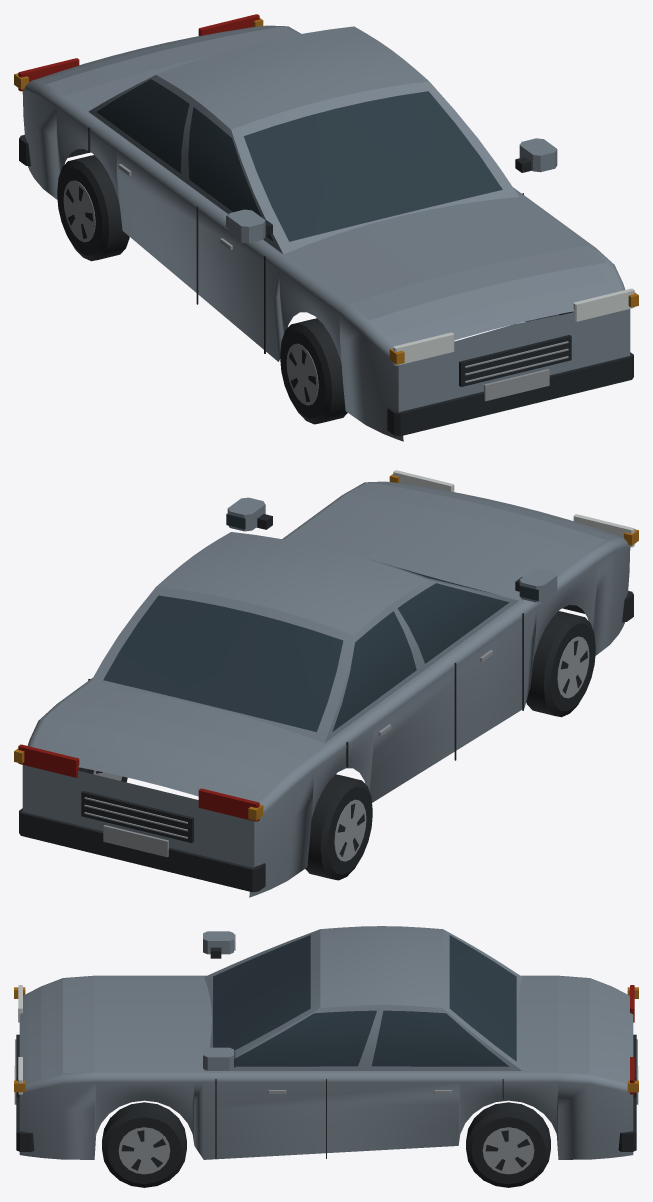
File: sedan.glb
3 renders of one model, top to bottom at view 1: azimuth 30°, elevation 25°; view 2: azimuth 150°, elevation 25°; view 3: azimuth 270°, elevation 25°, orthographic. The views are drawn at different scales.
Parts seen in each view (by area): view 1: paint-body, glass-body, rubber-body, rubber-wheel-front-left (×2), alloy-wheel-front-left (×2), headlamp-body, alloy-body, taillamp-body, indicator-body; view 2: paint-body, glass-body, rubber-body, rubber-wheel-front-left (×2), alloy-wheel-front-left (×2), taillamp-body, alloy-body, headlamp-body, indicator-body; view 3: paint-body, glass-body, rubber-wheel-front-left (×2), alloy-wheel-front-left (×2), rubber-body, indicator-body, alloy-body.
Part boxes in pixels (left/top/right/bottom): paint-body: left=22, top=25, right=630, bottom=441; glass-body: left=96, top=79, right=502, bottom=241; rubber-body: left=19, top=127, right=633, bottom=436; rubber-wheel-front-left (×2): left=57, top=155, right=347, bottom=424; alloy-wheel-front-left (×2): left=63, top=180, right=318, bottom=405; headlamp-body: left=393, top=288, right=634, bottom=365; alloy-body: left=118, top=164, right=568, bottom=401; taillamp-body: left=18, top=14, right=259, bottom=91; indicator-body: left=14, top=18, right=638, bottom=364; paint-body: left=22, top=481, right=630, bottom=897; glass-body: left=103, top=513, right=538, bottom=732; rubber-body: left=19, top=514, right=633, bottom=892; rubber-wheel-front-left (×2): left=305, top=611, right=595, bottom=880; alloy-wheel-front-left (×2): left=334, top=636, right=589, bottom=861; taillamp-body: left=18, top=744, right=259, bottom=821; alloy-body: left=84, top=650, right=492, bottom=857; headlamp-body: left=393, top=470, right=634, bottom=547; indicator-body: left=14, top=474, right=638, bottom=820; paint-body: left=19, top=926, right=633, bottom=1159; glass-body: left=213, top=934, right=516, bottom=1067; rubber-wheel-front-left (×2): left=102, top=1102, right=550, bottom=1187; alloy-wheel-front-left (×2): left=118, top=1127, right=534, bottom=1174; rubber-body: left=16, top=947, right=636, bottom=1158; indicator-body: left=14, top=987, right=638, bottom=1092; alloy-body: left=14, top=1039, right=638, bottom=1104.
Bounding box in the file's own units: 2.21 × 1.43 × 4.64.
